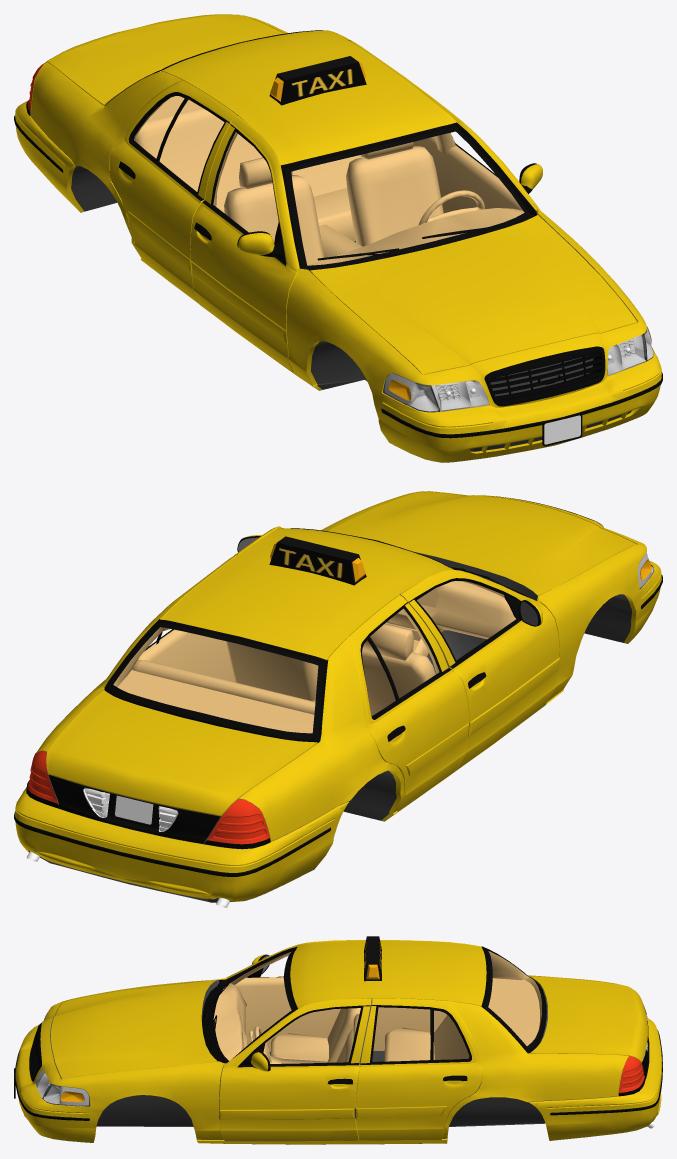
The model's file is CrownVicTaxi.fbx.
3 views of the same model, one above another, from view 1: azimuth 30°, elevation 25°; view 2: azimuth 150°, elevation 25°; view 3: azimuth 270°, elevation 25° (orthographic). The views are drawn at different scales.
Parts seen in each view (by area): view 1: Model::Ford_Crown_Vic.001, Cube.002, Cube; view 2: Model::Ford_Crown_Vic.001, Cube.003, Cube; view 3: Model::Ford_Crown_Vic.001, Cube.
Boxes of the visible parts, <box> form: Model::Ford_Crown_Vic.001: <box>14,14,662,462</box>; Cube.002: <box>281,62,366,105</box>; Cube: <box>269,56,358,104</box>; Model::Ford_Crown_Vic.001: <box>14,491,662,907</box>; Cube.003: <box>269,542,354,585</box>; Cube: <box>277,536,366,585</box>; Model::Ford_Crown_Vic.001: <box>14,940,662,1144</box>; Cube: <box>364,936,381,981</box>.
Bounding box in the file's own units: 2.13 × 5.4 × 1.41.
